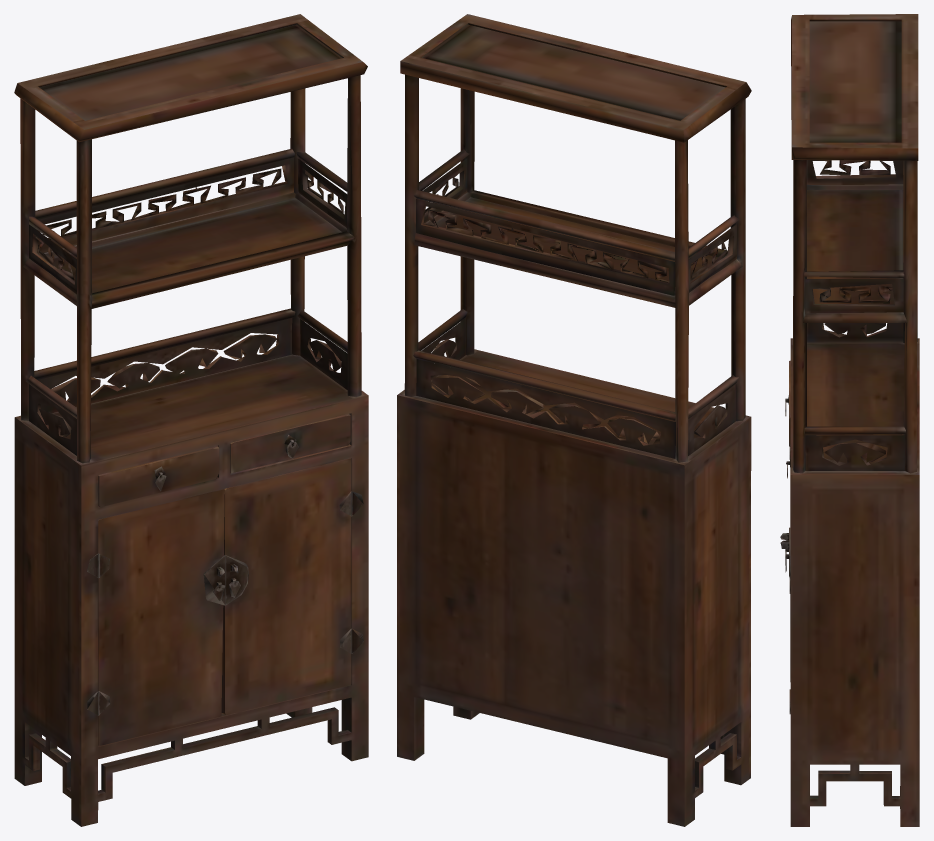
File: cn_cabinet.glb
3 views of the same model, side by side, from view 1: azimuth 30°, elevation 25°; view 2: azimuth 150°, elevation 25°; view 3: azimuth 270°, elevation 25° (orthographic). The views are drawn at different scales.
Visible parts, largest first — view 1: cn_cabinet; view 2: cn_cabinet; view 3: cn_cabinet.
Part boxes in pixels (<box>): cn_cabinet: <box>14,14,368,826</box>; cn_cabinet: <box>397,14,751,826</box>; cn_cabinet: <box>780,14,919,826</box>.
Bounding box in the file's own units: 1.26 × 2.87 × 0.5361.
1 material, 1 textured.
